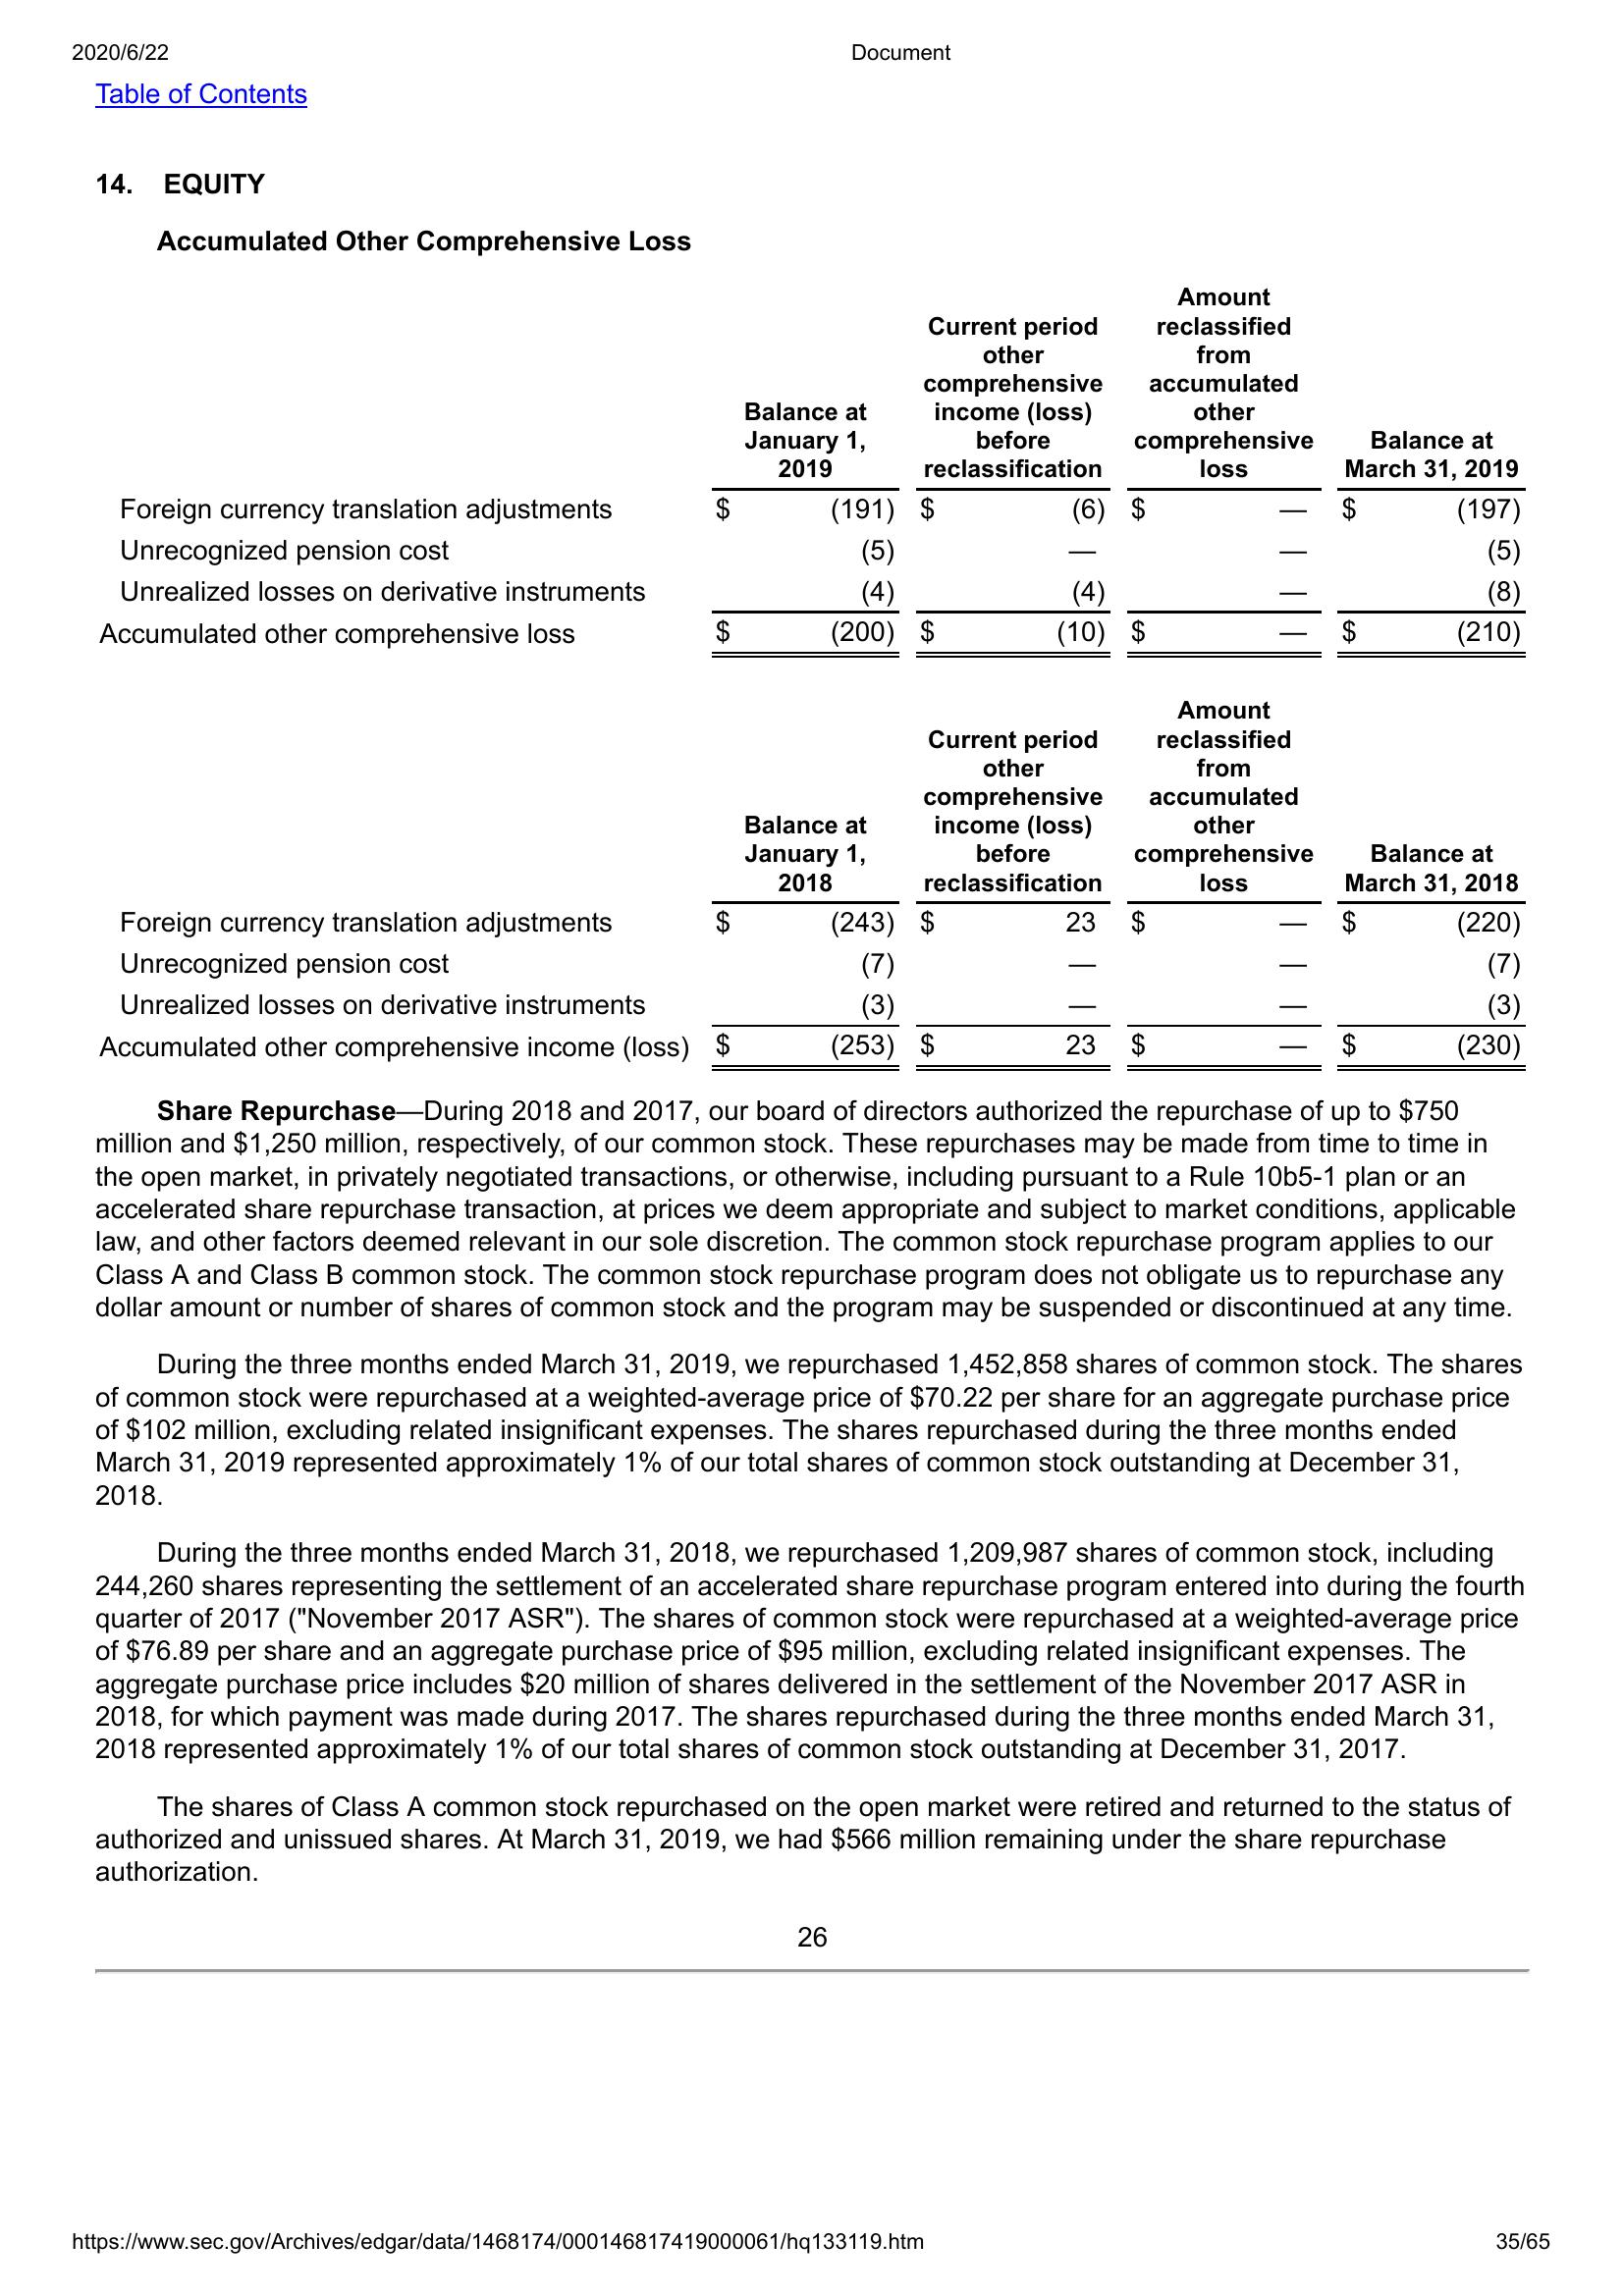table: (90, 270, 1540, 669), (90, 690, 1535, 1083)
